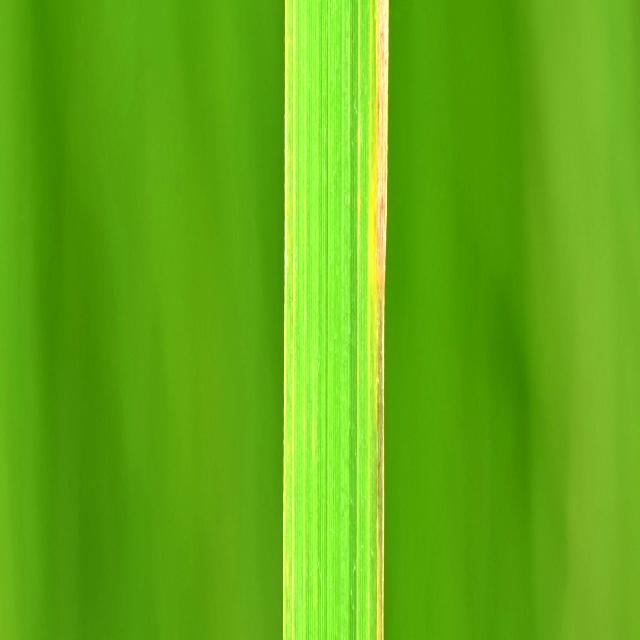BLB: (376, 0, 387, 319)
